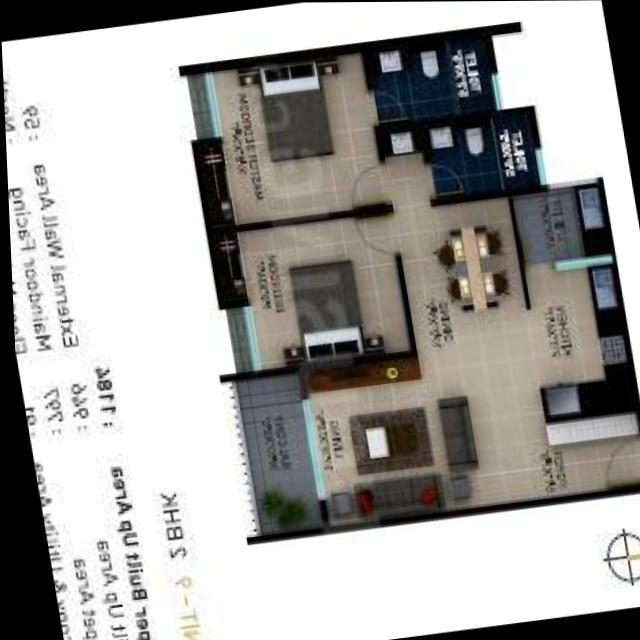Balcony-Sitout: (235, 376, 320, 534)
Bedroom: (234, 210, 413, 373)
Bedroom with Toilet: (208, 35, 500, 226)
Dining: (423, 208, 521, 326)
Enterance-Foyer: (538, 411, 640, 494)
Kitchen: (524, 262, 634, 417)
Living: (304, 350, 510, 525)
Toilet: (371, 39, 495, 123), (429, 115, 538, 196)
Utility: (514, 186, 608, 263)
